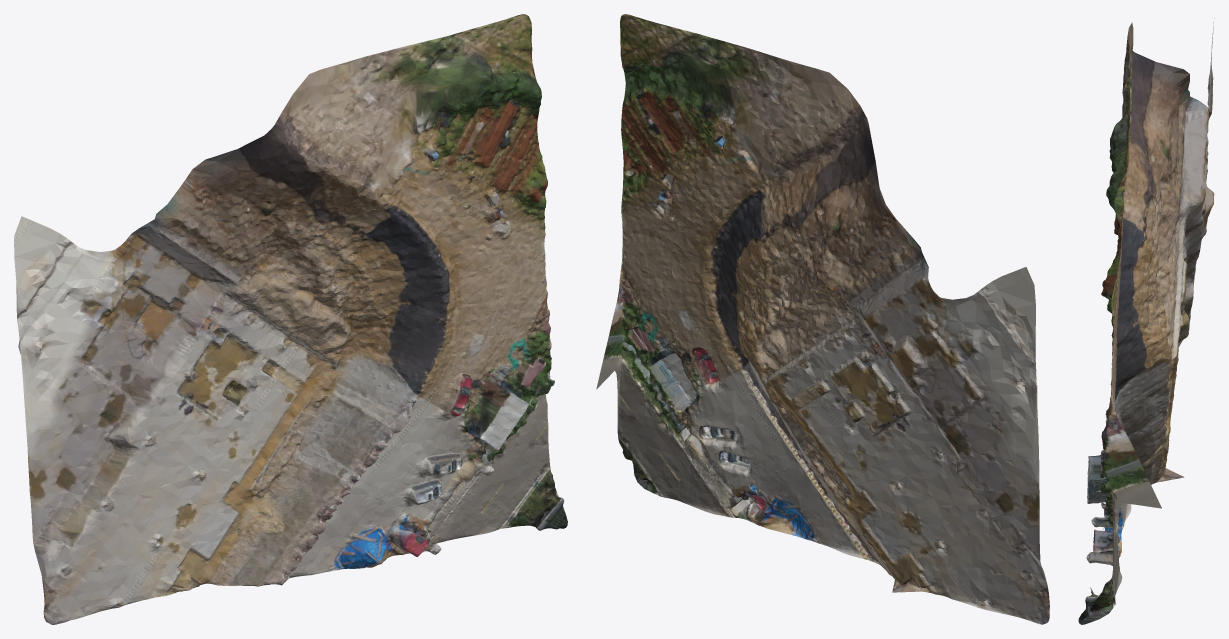
The model's file is Tile_+004_+008.obj.
3 views of the same model, side by side, from view 1: azimuth 30°, elevation 25°; view 2: azimuth 150°, elevation 25°; view 3: azimuth 270°, elevation 25° (orthographic). The views are drawn at different scales.
Size of the model in its own units: 61.08 by 61.59 by 14.8.
1 material, 1 textured.
